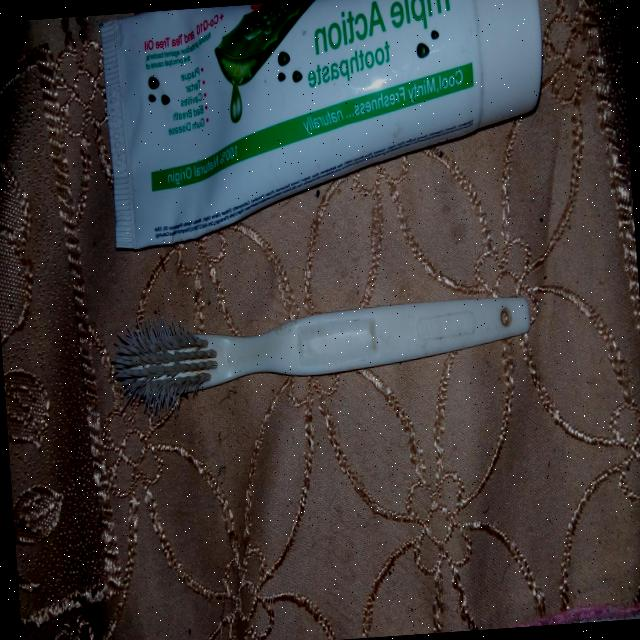Toothpaste: (86, 0, 558, 264)
